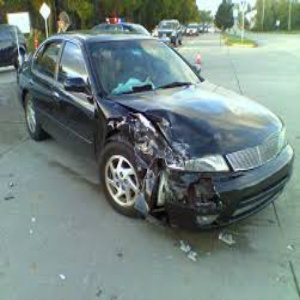bonnet: (126, 98, 209, 158)
bumper: (146, 176, 227, 233)
